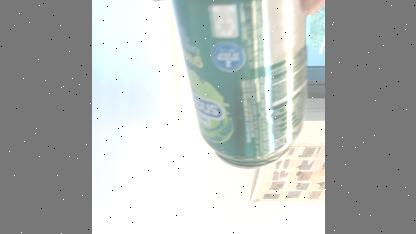Can: (154, 0, 309, 171)
